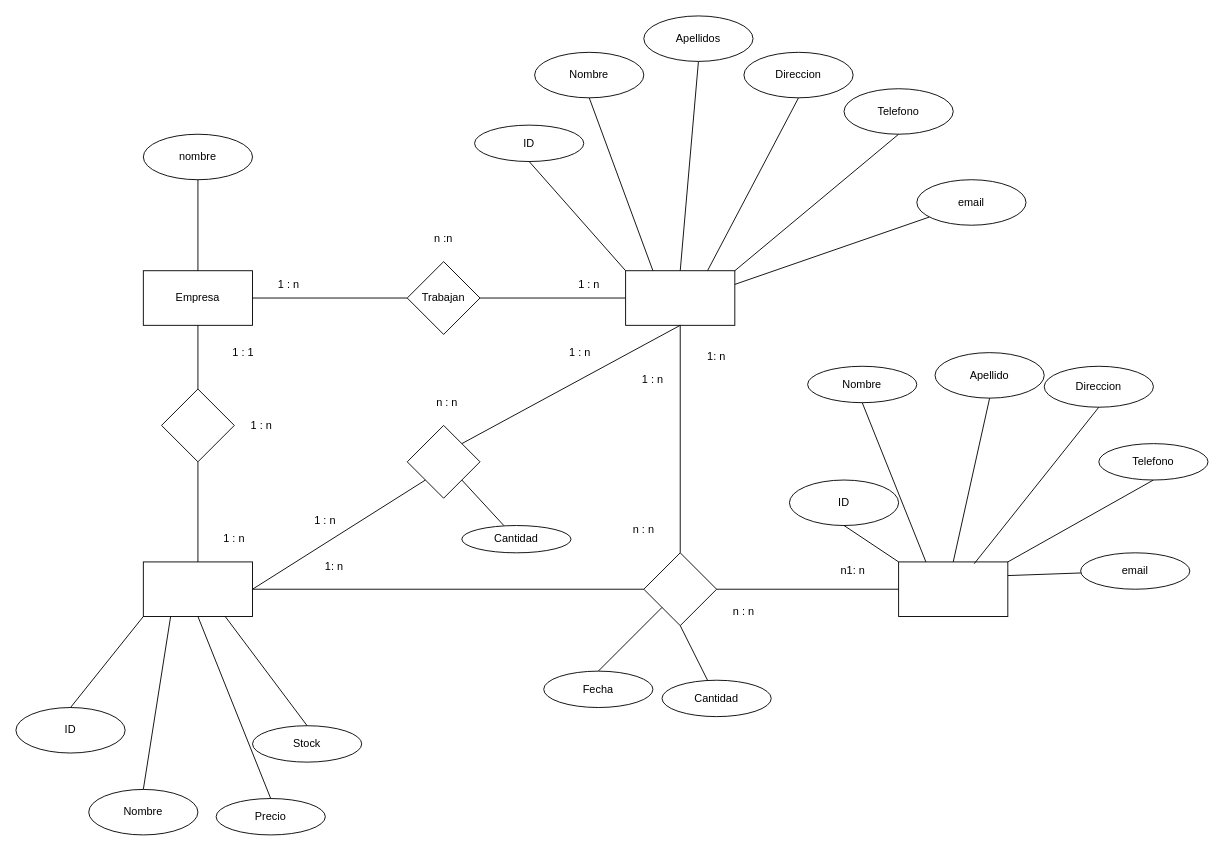
Image size: 1224x851. Some labels were removed from this diagram. The centre of each missing label's shape, as x and y in pixels:
"Compran" belongs at point 443,461.
"Consumidores" belongs at point 953,589.
"Productos" belongs at point 197,589.
"Socios" belongs at point 680,297.
"Vende" belongs at point 197,425.
"Venden" belongs at point 680,589.
